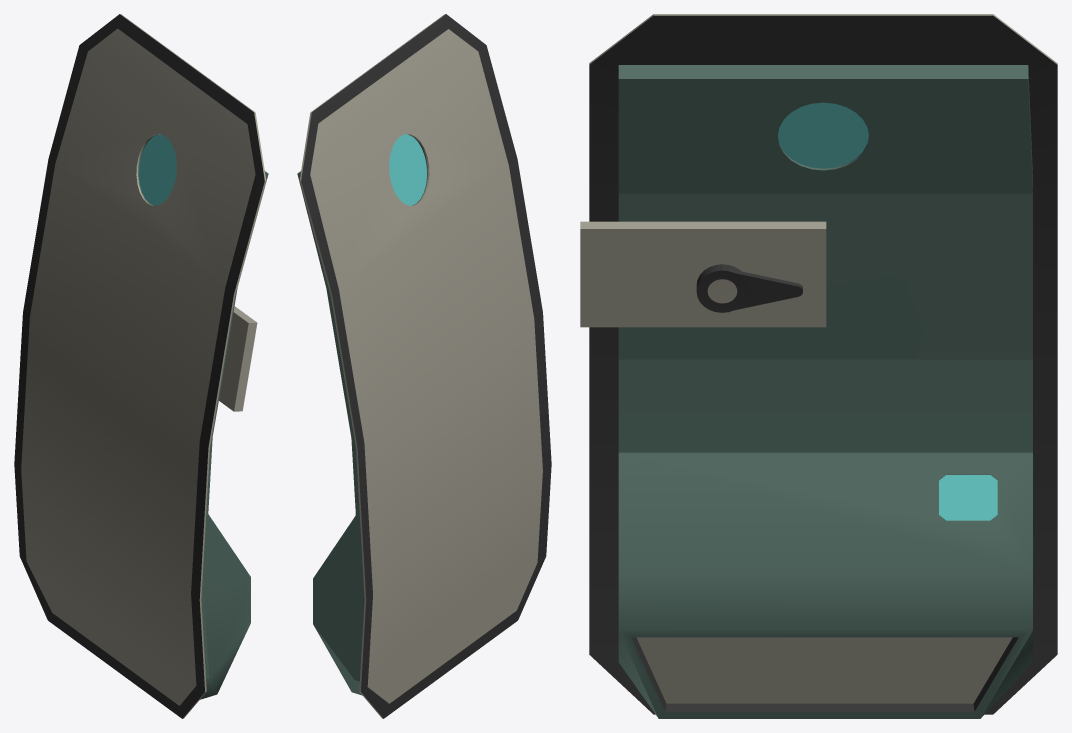
Rendered from Door.fbx.
The picture shows the model from 3 angles, left to right: view 1: azimuth 30°, elevation 25°; view 2: azimuth 150°, elevation 25°; view 3: azimuth 270°, elevation 25°; orthographic projection. The views are drawn at different scales.
Parts seen in each view (by area): view 1: Door_MESH; view 2: Door_MESH; view 3: Door_MESH.
Boxes of the visible parts, bbox=[...] form: Door_MESH: bbox=[14, 14, 268, 718]; Door_MESH: bbox=[297, 14, 551, 718]; Door_MESH: bbox=[580, 14, 1057, 718].
Size of the model in its own units: 27.67 by 191 by 111.
